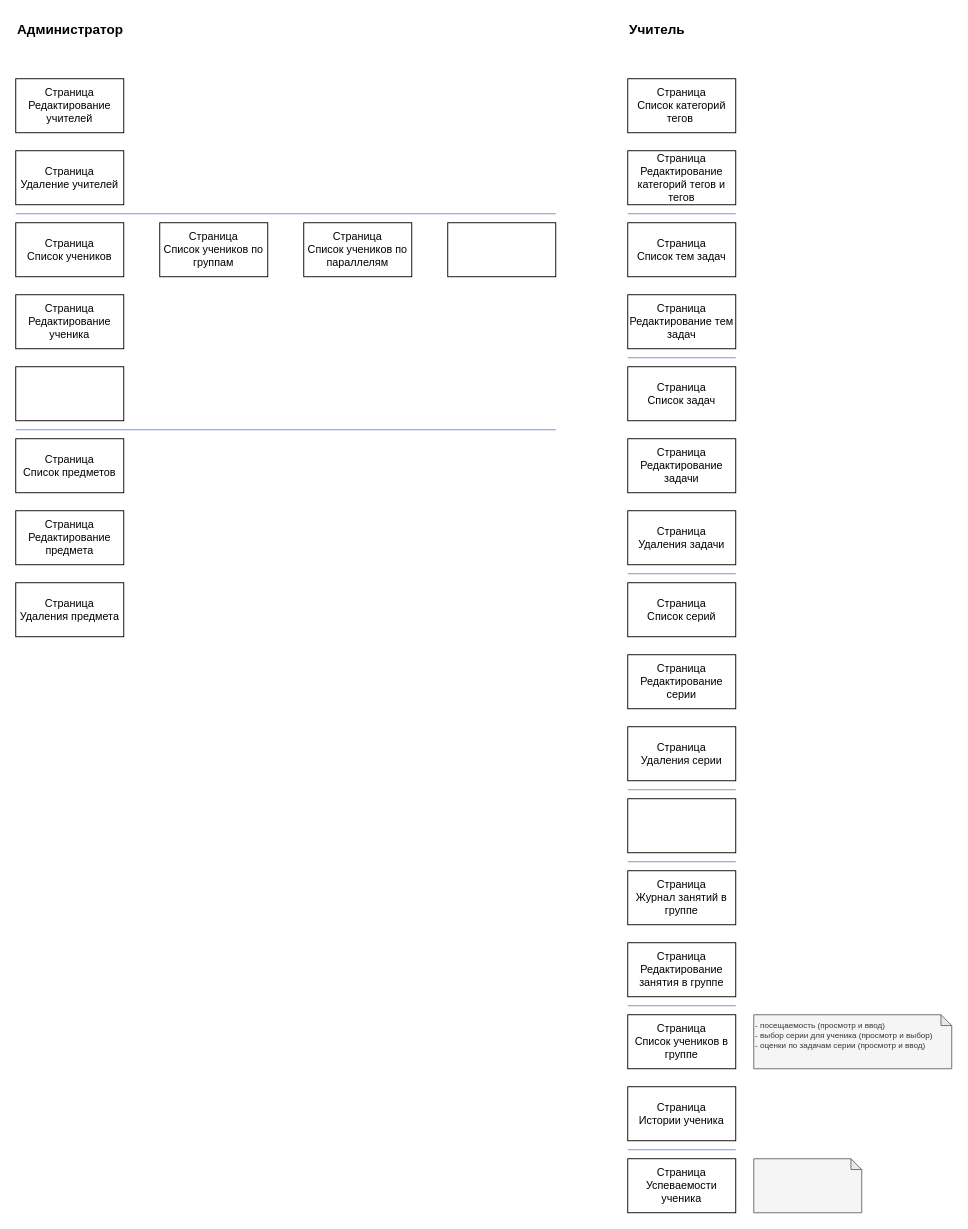
This 968x1229 diagram has some shape labels left out. Each missing label, with the centre of its shape:
"- посещаемость - выбор серии - оценки по задачам серии" goes at pixel 807 1185.
"Страница Список групп" goes at pixel 681 825.
"Страница Список учеников по классам" goes at pixel 501 249.
"Страница Удаления ученика" goes at pixel 69 393.
